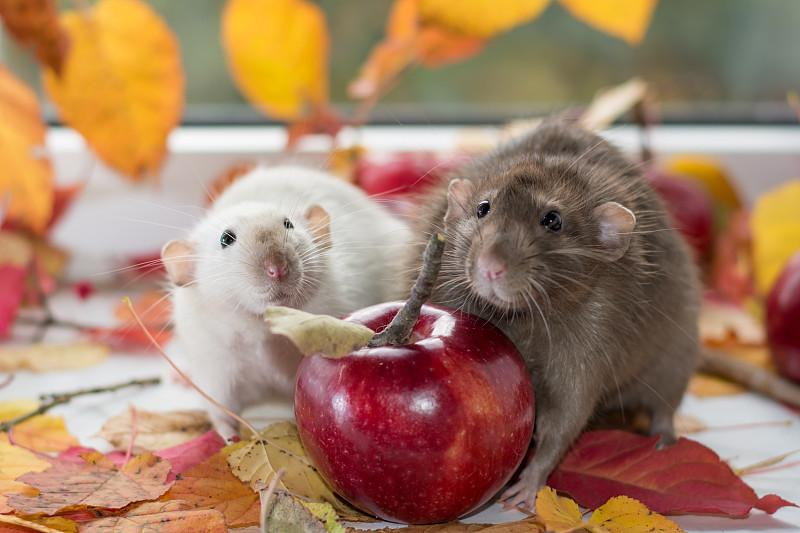rat: (414, 100, 703, 528), (156, 178, 375, 417)
